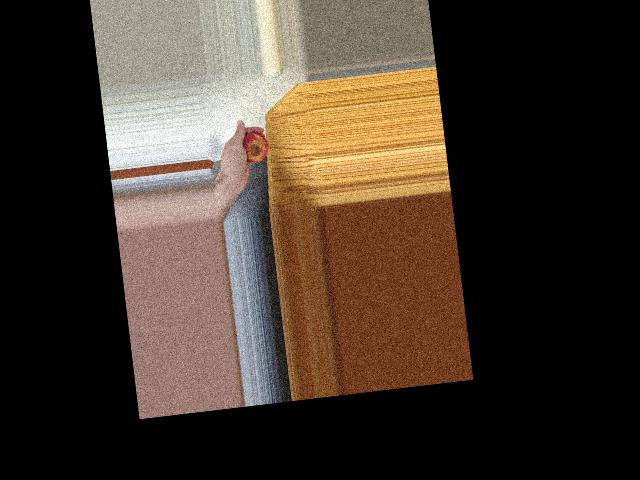apple: (237, 128, 272, 171)
